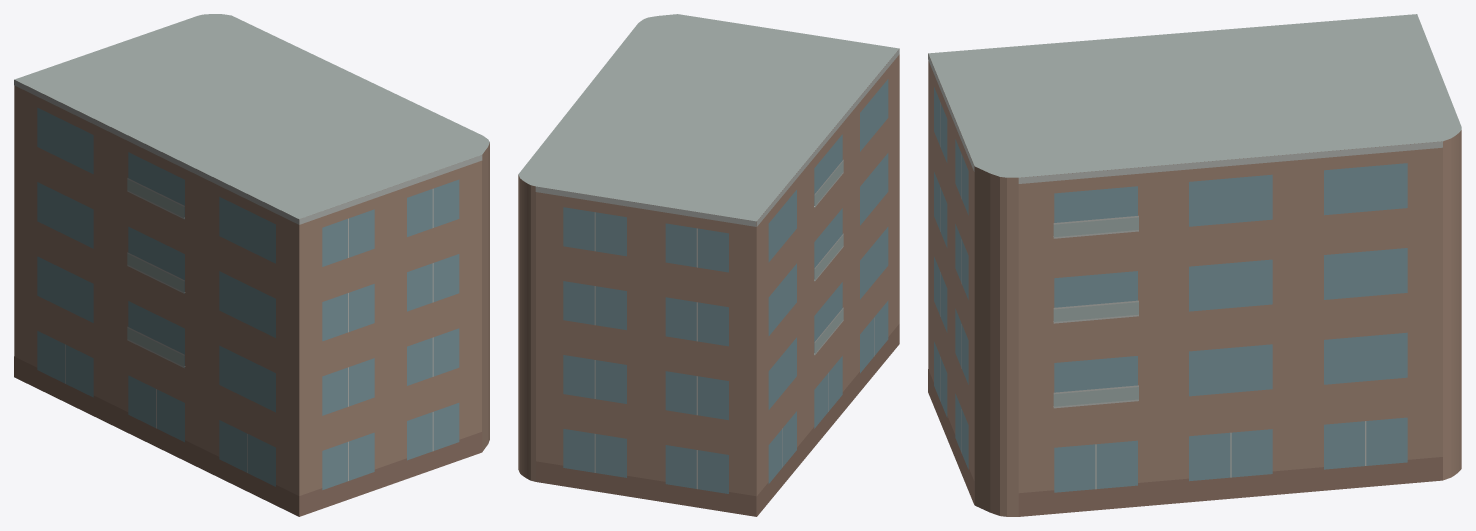
Rendered from survey-upis-32715411.glb.
3 renders of one model, left to right at view 1: azimuth 30°, elevation 25°; view 2: azimuth 150°, elevation 25°; view 3: azimuth 270°, elevation 25°, orthographic. The views are drawn at different scales.
Visible parts, largest first — view 1: survey-upis-32715411.tmp; view 2: survey-upis-32715411.tmp; view 3: survey-upis-32715411.tmp.
Boxes of the visible parts, <box> form: survey-upis-32715411.tmp: <box>14,14,489,516</box>; survey-upis-32715411.tmp: <box>518,14,899,516</box>; survey-upis-32715411.tmp: <box>928,14,1461,516</box>.
Size of the model in its own units: 13.36 by 12.9 by 18.4.
